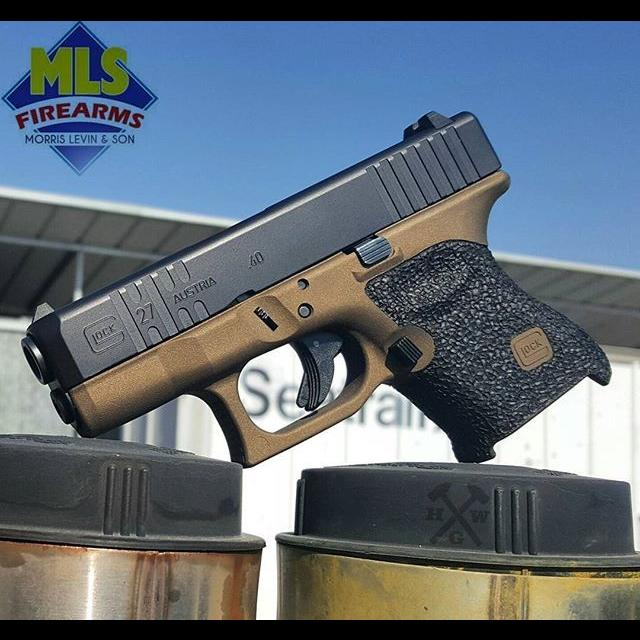handgun: (14, 101, 616, 471)
